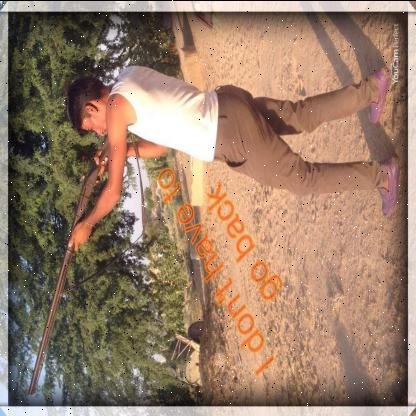rifle: (26, 118, 128, 396)
